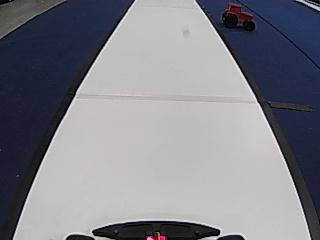Tracktor: (218, 1, 259, 35)
